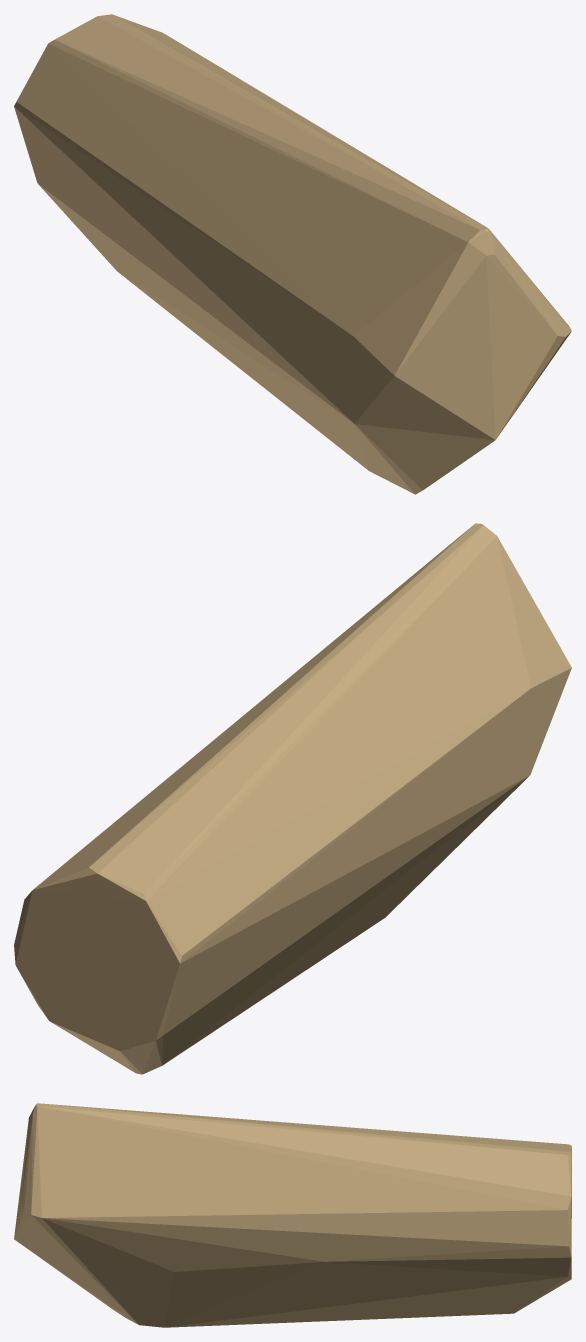
File: fireProtection_extinguisher_portable_a01.glb
3 renders of one model, top to bottom at view 1: azimuth 30°, elevation 25°; view 2: azimuth 150°, elevation 25°; view 3: azimuth 270°, elevation 25°, orthographic. The views are drawn at different scales.
Parts seen in each view (by area): view 1: geometry_0; view 2: geometry_0; view 3: geometry_0.
Boxes of the visible parts, <box> form: geometry_0: <box>14,14,571,494</box>; geometry_0: <box>14,523,571,1074</box>; geometry_0: <box>14,1103,571,1327</box>.
Bounding box in the file's own units: 0.1235 × 0.211 × 0.4799.
